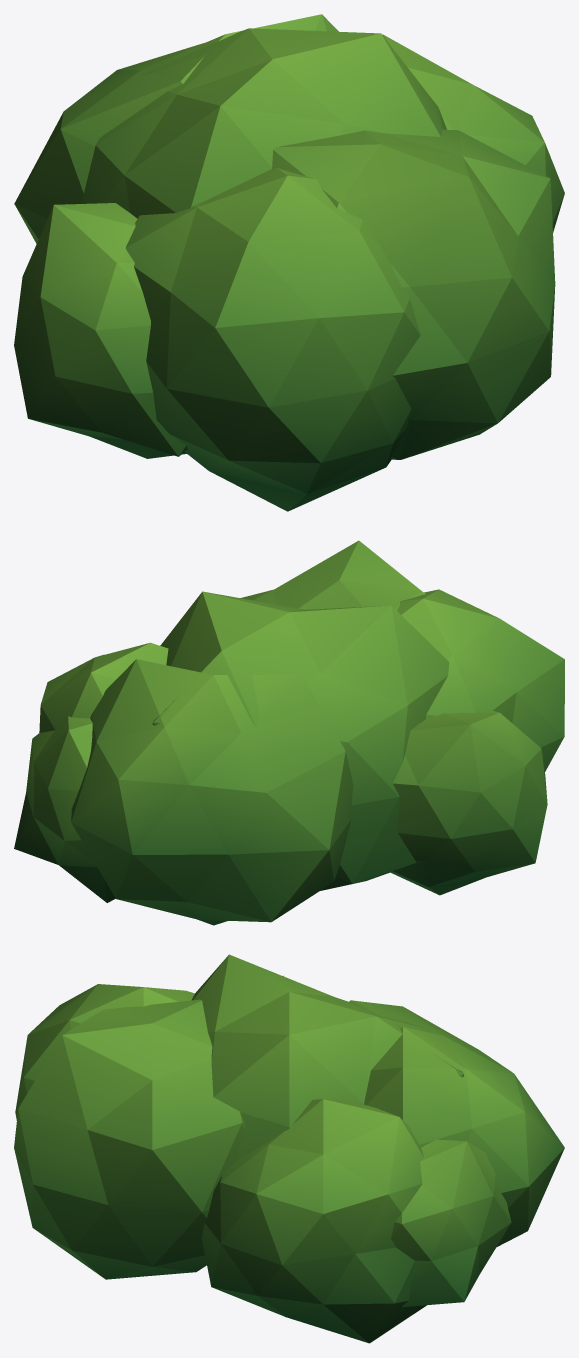
Rendered from f_bush2.glb.
3 views of the same model, one above another, from view 1: azimuth 30°, elevation 25°; view 2: azimuth 150°, elevation 25°; view 3: azimuth 270°, elevation 25° (orthographic). The views are drawn at different scales.
Visible parts, largest first — view 1: bush2; view 2: bush2; view 3: bush2.
Part boxes in pixels (<box>): bush2: <box>14,14,564,511</box>; bush2: <box>14,540,564,925</box>; bush2: <box>14,954,564,1343</box>.
Size of the model in its own units: 1.23 by 0.7717 by 1.3.
